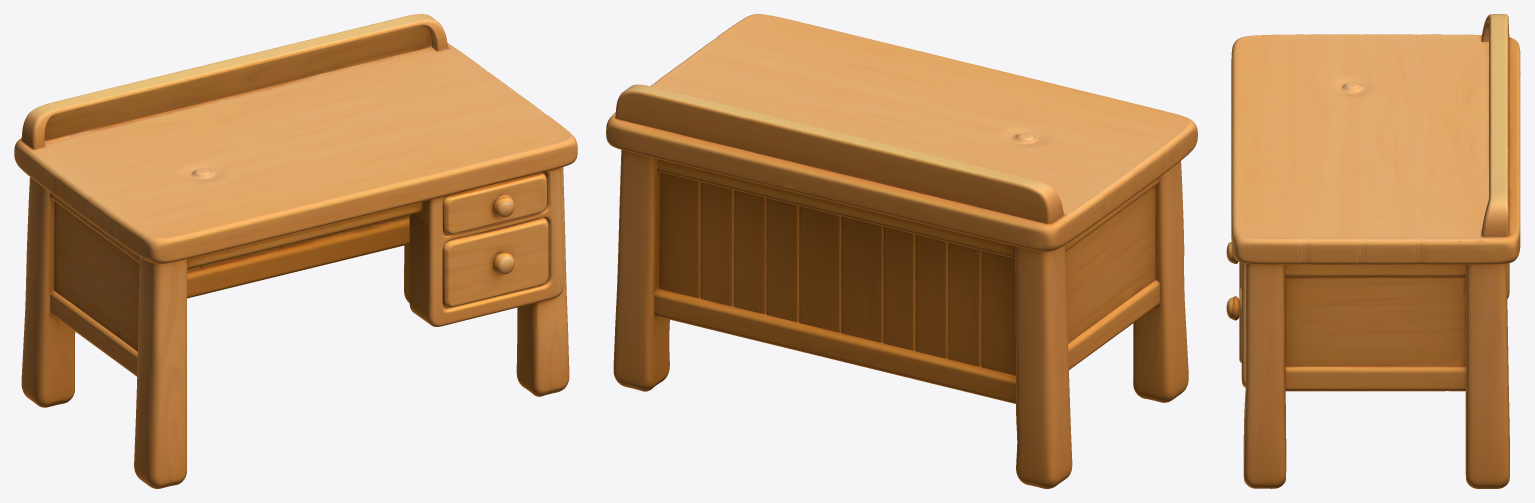
Rendered from library-desk.glb.
3 views of the same model, side by side, from view 1: azimuth 30°, elevation 25°; view 2: azimuth 150°, elevation 25°; view 3: azimuth 270°, elevation 25° (orthographic). The views are drawn at different scales.
Parts seen in each view (by area): view 1: node_0; view 2: node_0; view 3: node_0.
Boxes of the visible parts, left/top/right/bottom form: node_0: left=14, top=14, right=577, bottom=488; node_0: left=606, top=14, right=1197, bottom=488; node_0: left=1226, top=14, right=1520, bottom=488.
Size of the model in its own units: 0.9561 by 0.6114 by 0.5689.
Materials: 1 (1 with a texture image).
